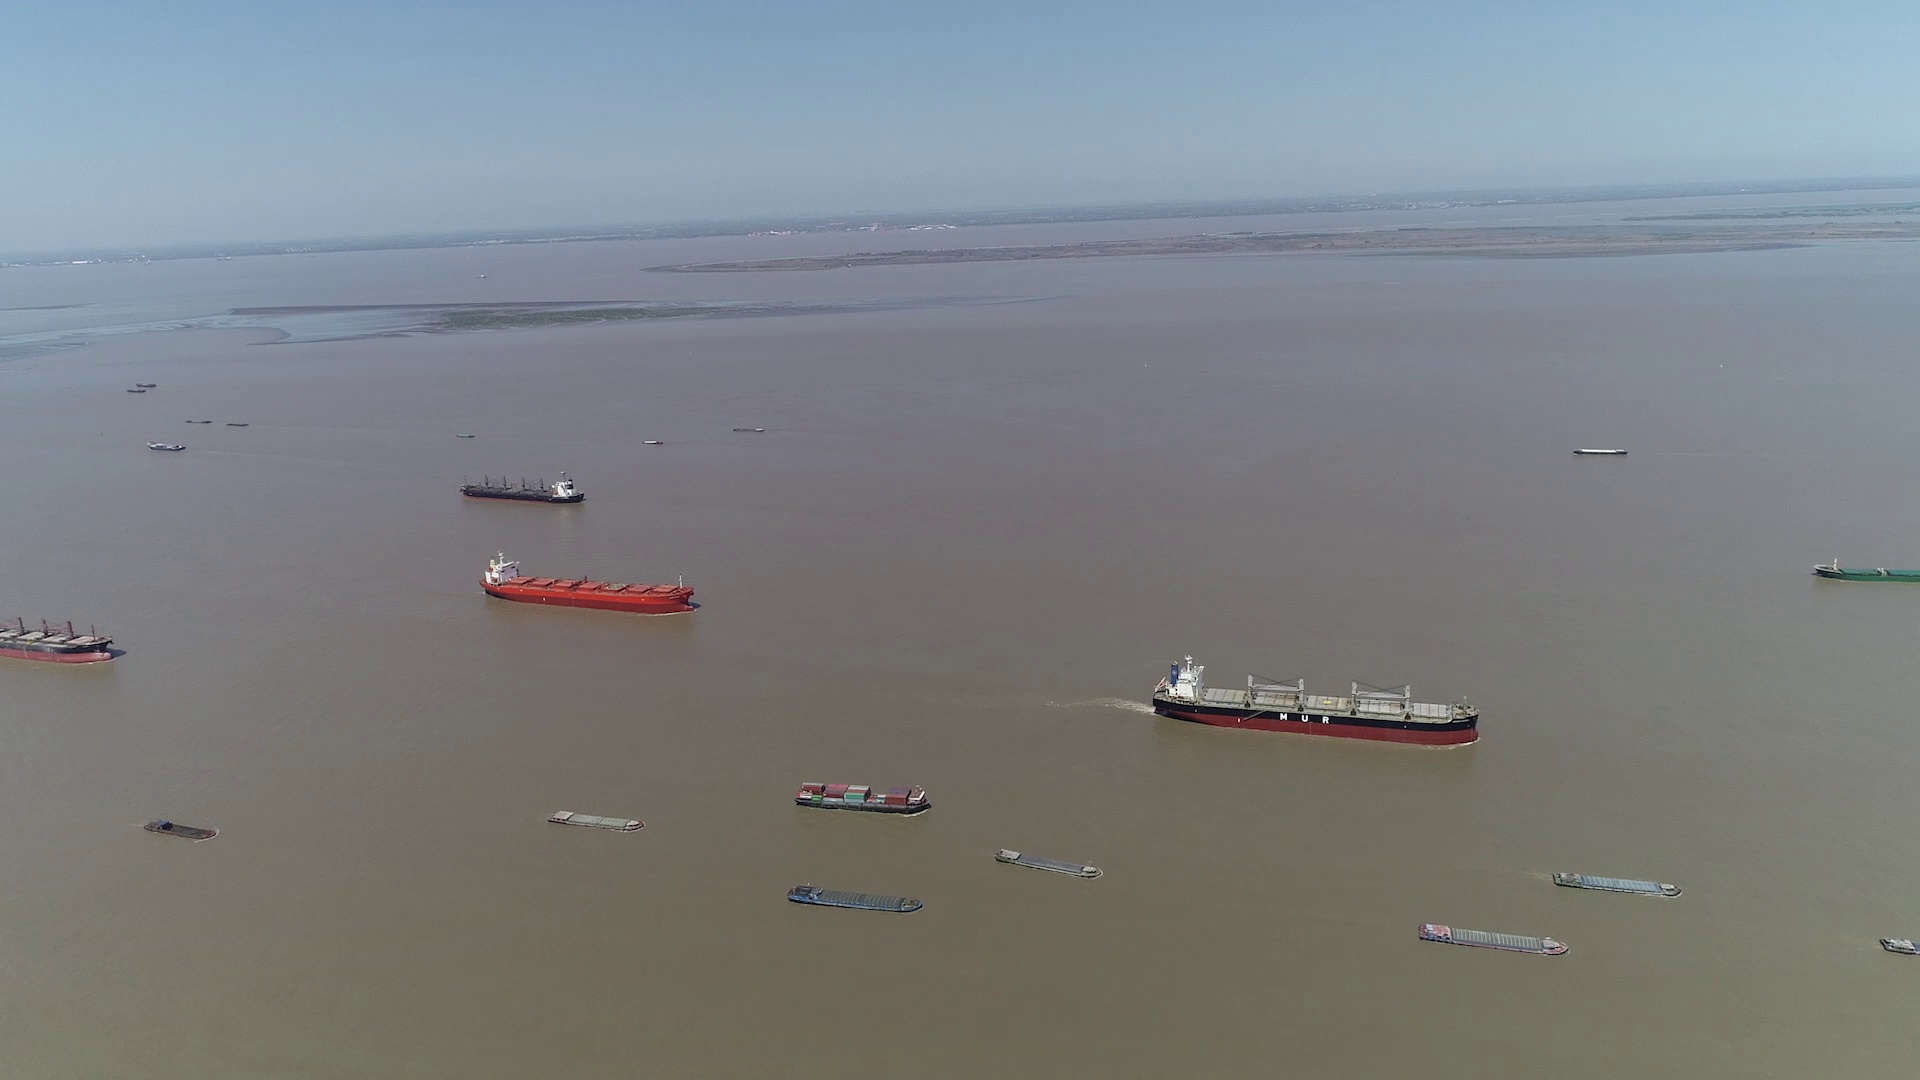ship: (1151, 655, 1481, 744), (485, 553, 695, 615), (0, 599, 119, 665), (1422, 922, 1571, 956), (795, 781, 932, 814), (460, 471, 583, 504), (787, 882, 920, 913), (1552, 870, 1680, 898), (996, 847, 1102, 880), (1813, 560, 1917, 582), (549, 810, 644, 832), (145, 819, 219, 841), (1879, 936, 1919, 957), (149, 436, 193, 447), (148, 440, 187, 451), (1575, 448, 1625, 455)
